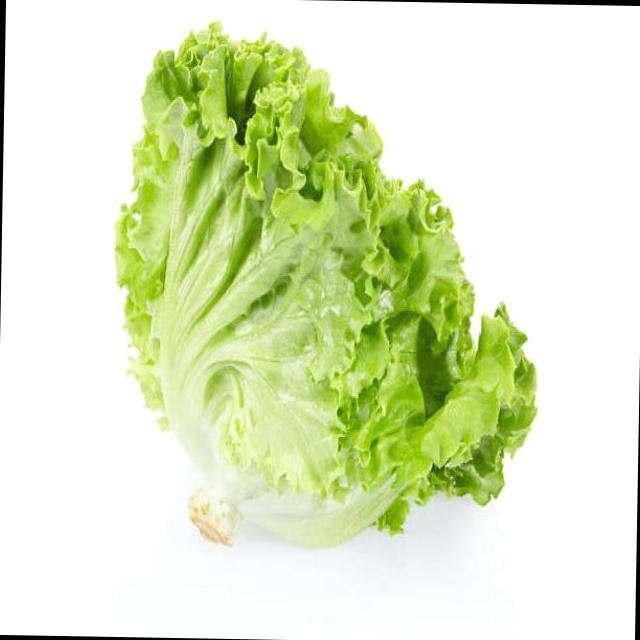Lettuce-Ready-to-Harvest: (111, 20, 537, 552)
